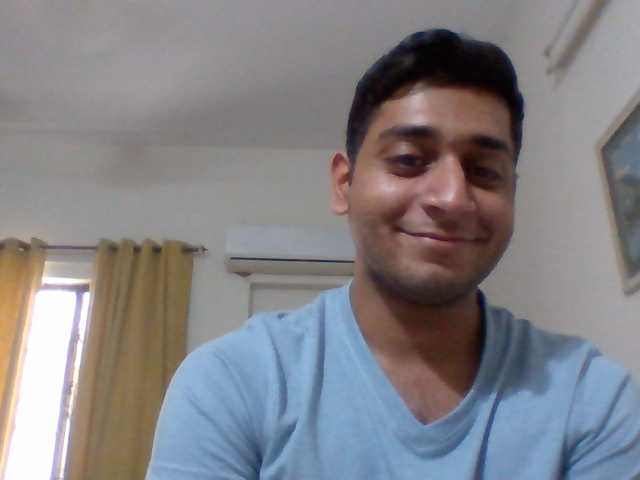happy: (311, 94, 553, 308)
